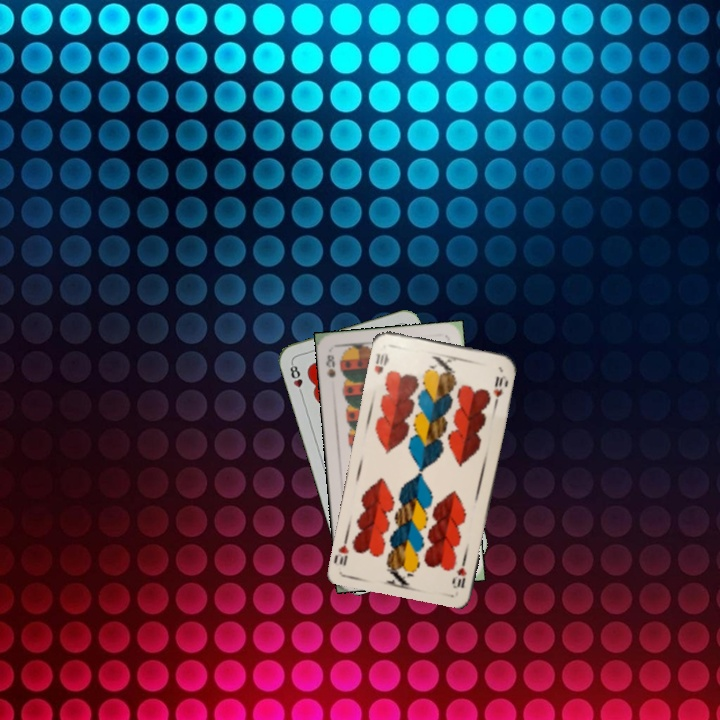H10: (450, 552, 469, 591), (370, 349, 392, 378)
H8: (286, 359, 306, 398)
S8: (322, 351, 338, 380)
